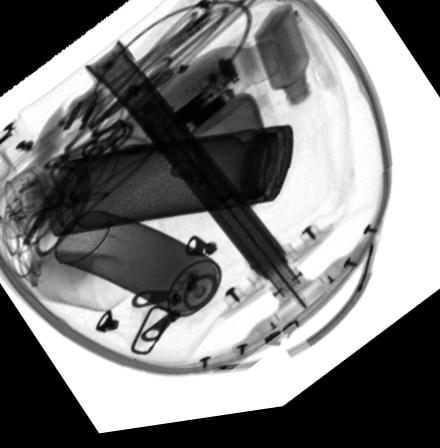Sprayer: (53, 212, 240, 342)
